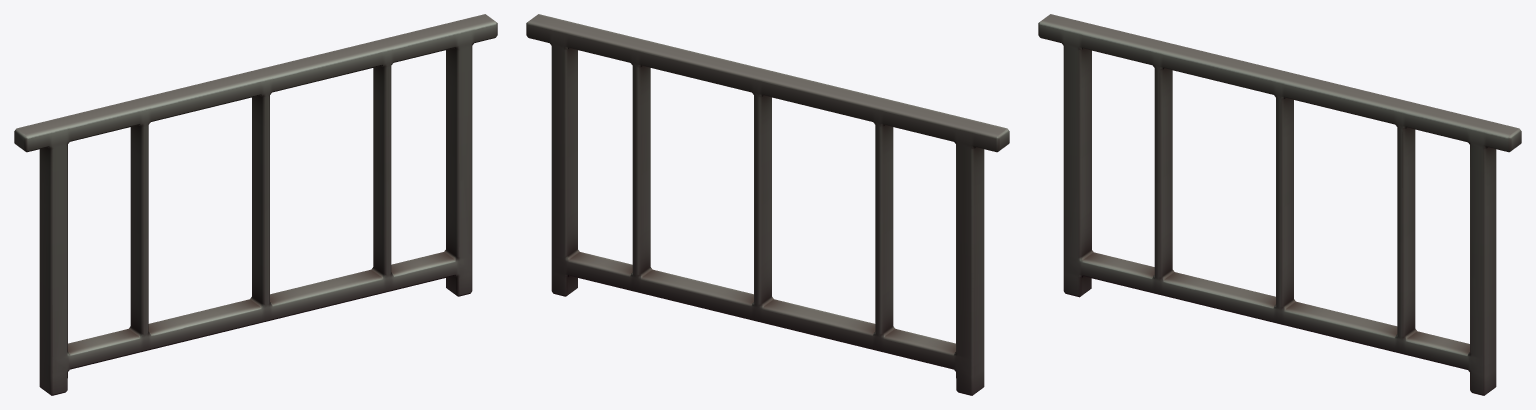
Rendered from prova.glb.
The picture shows the model from 3 angles, left to right: view 1: azimuth 30°, elevation 25°; view 2: azimuth 150°, elevation 25°; view 3: azimuth 330°, elevation 25°; orthographic projection.
Parts seen in each view (by area): view 1: pCube36; view 2: pCube36; view 3: pCube36.
Boxes of the visible parts, x1,y1,x2,y2 form: pCube36: [14, 14, 497, 395]; pCube36: [526, 14, 1009, 395]; pCube36: [1038, 14, 1521, 395].
Size of the model in its own units: 6.5 by 3.5 by 0.2953.
1 material, 1 textured.
